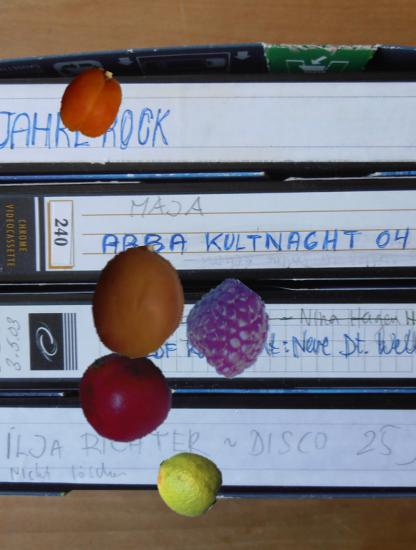Apricot: (82, 247, 193, 358), (56, 67, 126, 137)
Limes: (155, 449, 223, 517)
Pomegranate: (77, 348, 172, 443)
Raspberry: (186, 284, 274, 372)
